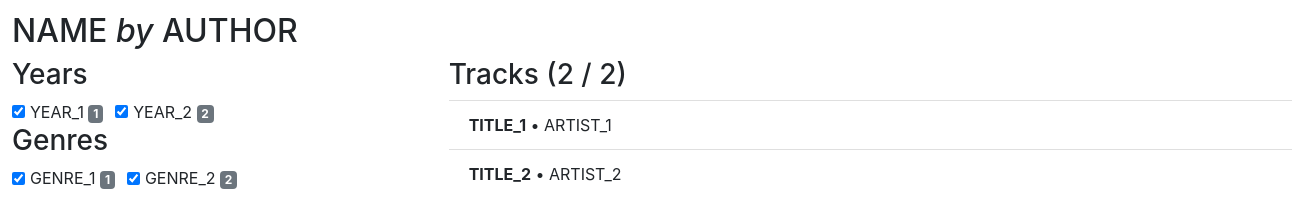
Test: filters tracks with a specified genre
Click the checkbox with test id "genre-toggle-GENRE_1": (18, 178) [12,172,25,185]
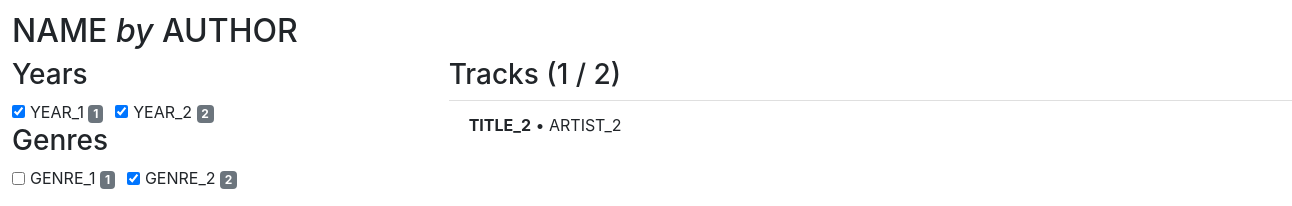
Check: the list items read "TITLE_2 • ARTIST_2", in this order, box [449,100,1291,149]
